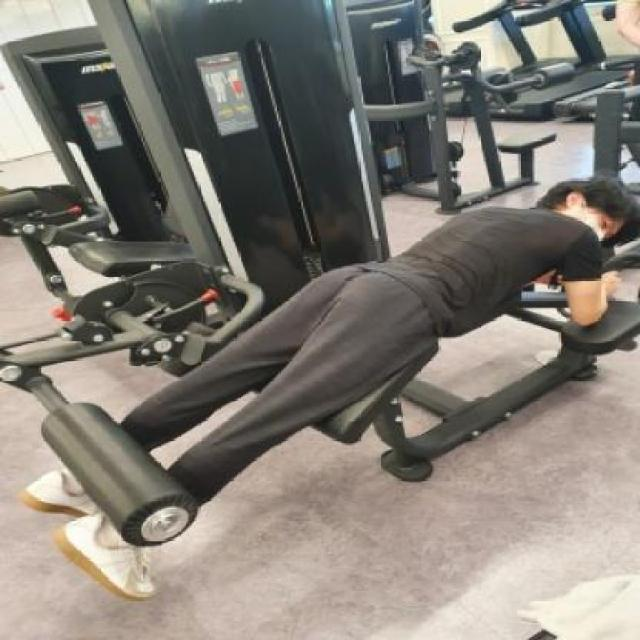reg curl machine: (2, 0, 636, 606)
